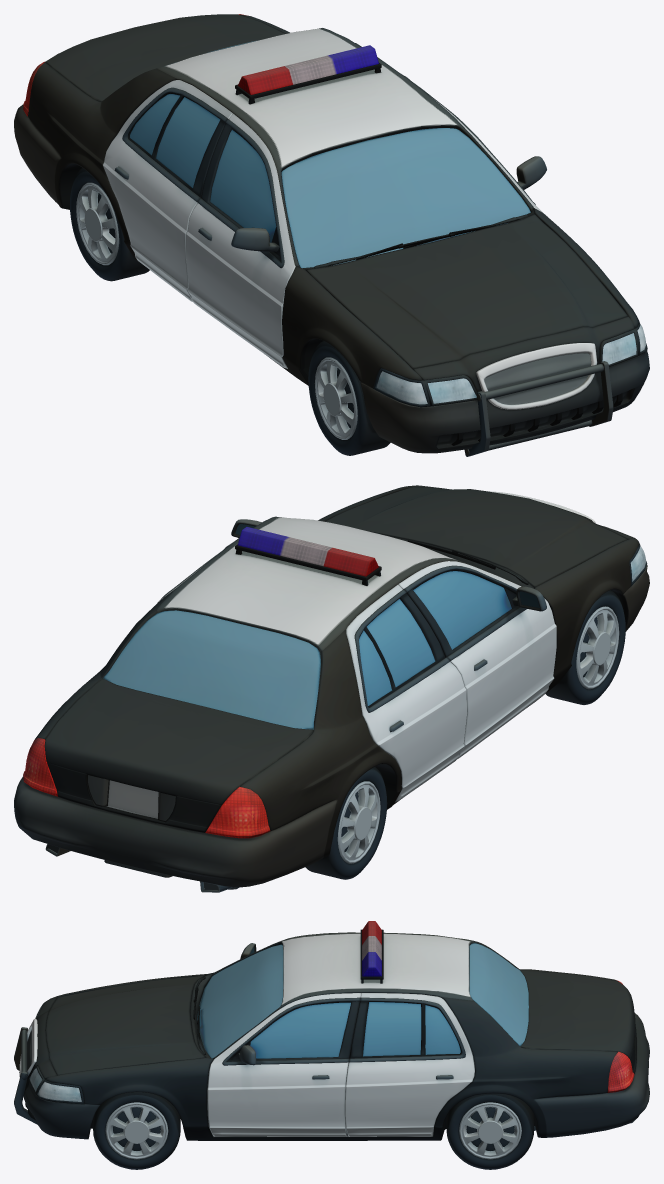
File: car.glb
3 renders of one model, top to bottom at view 1: azimuth 30°, elevation 25°; view 2: azimuth 150°, elevation 25°; view 3: azimuth 270°, elevation 25°, orthographic. The views are drawn at different scales.
Parts seen in each view (by area): view 1: node_id6, node_id9; view 2: node_id6; view 3: node_id6, node_id9.
Boxes of the visible parts, box(x1,y1,x2,y2) form: node_id6: box(14, 14, 649, 456); node_id9: box(376, 324, 645, 404); node_id6: box(14, 485, 649, 892); node_id6: box(14, 921, 649, 1169); node_id9: box(29, 1015, 81, 1101).
Size of the model in its own units: 0.512 by 0.3773 by 1.21.
Materials: 2 (2 with a texture image).
